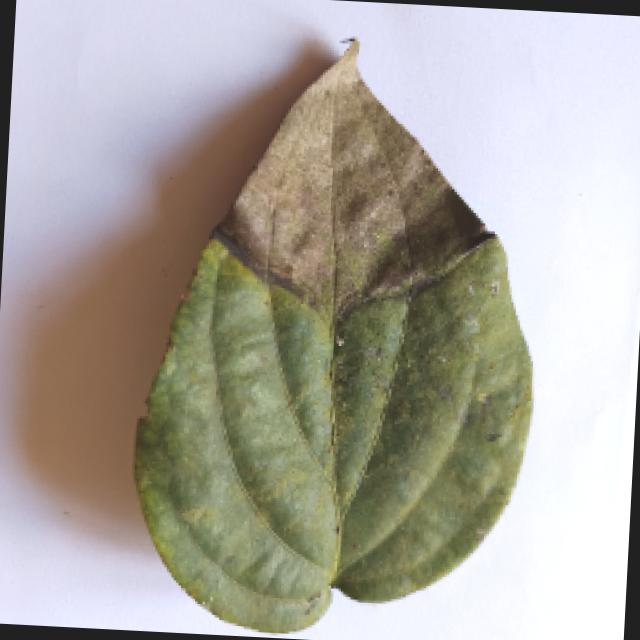footrot: (126, 41, 549, 640)
